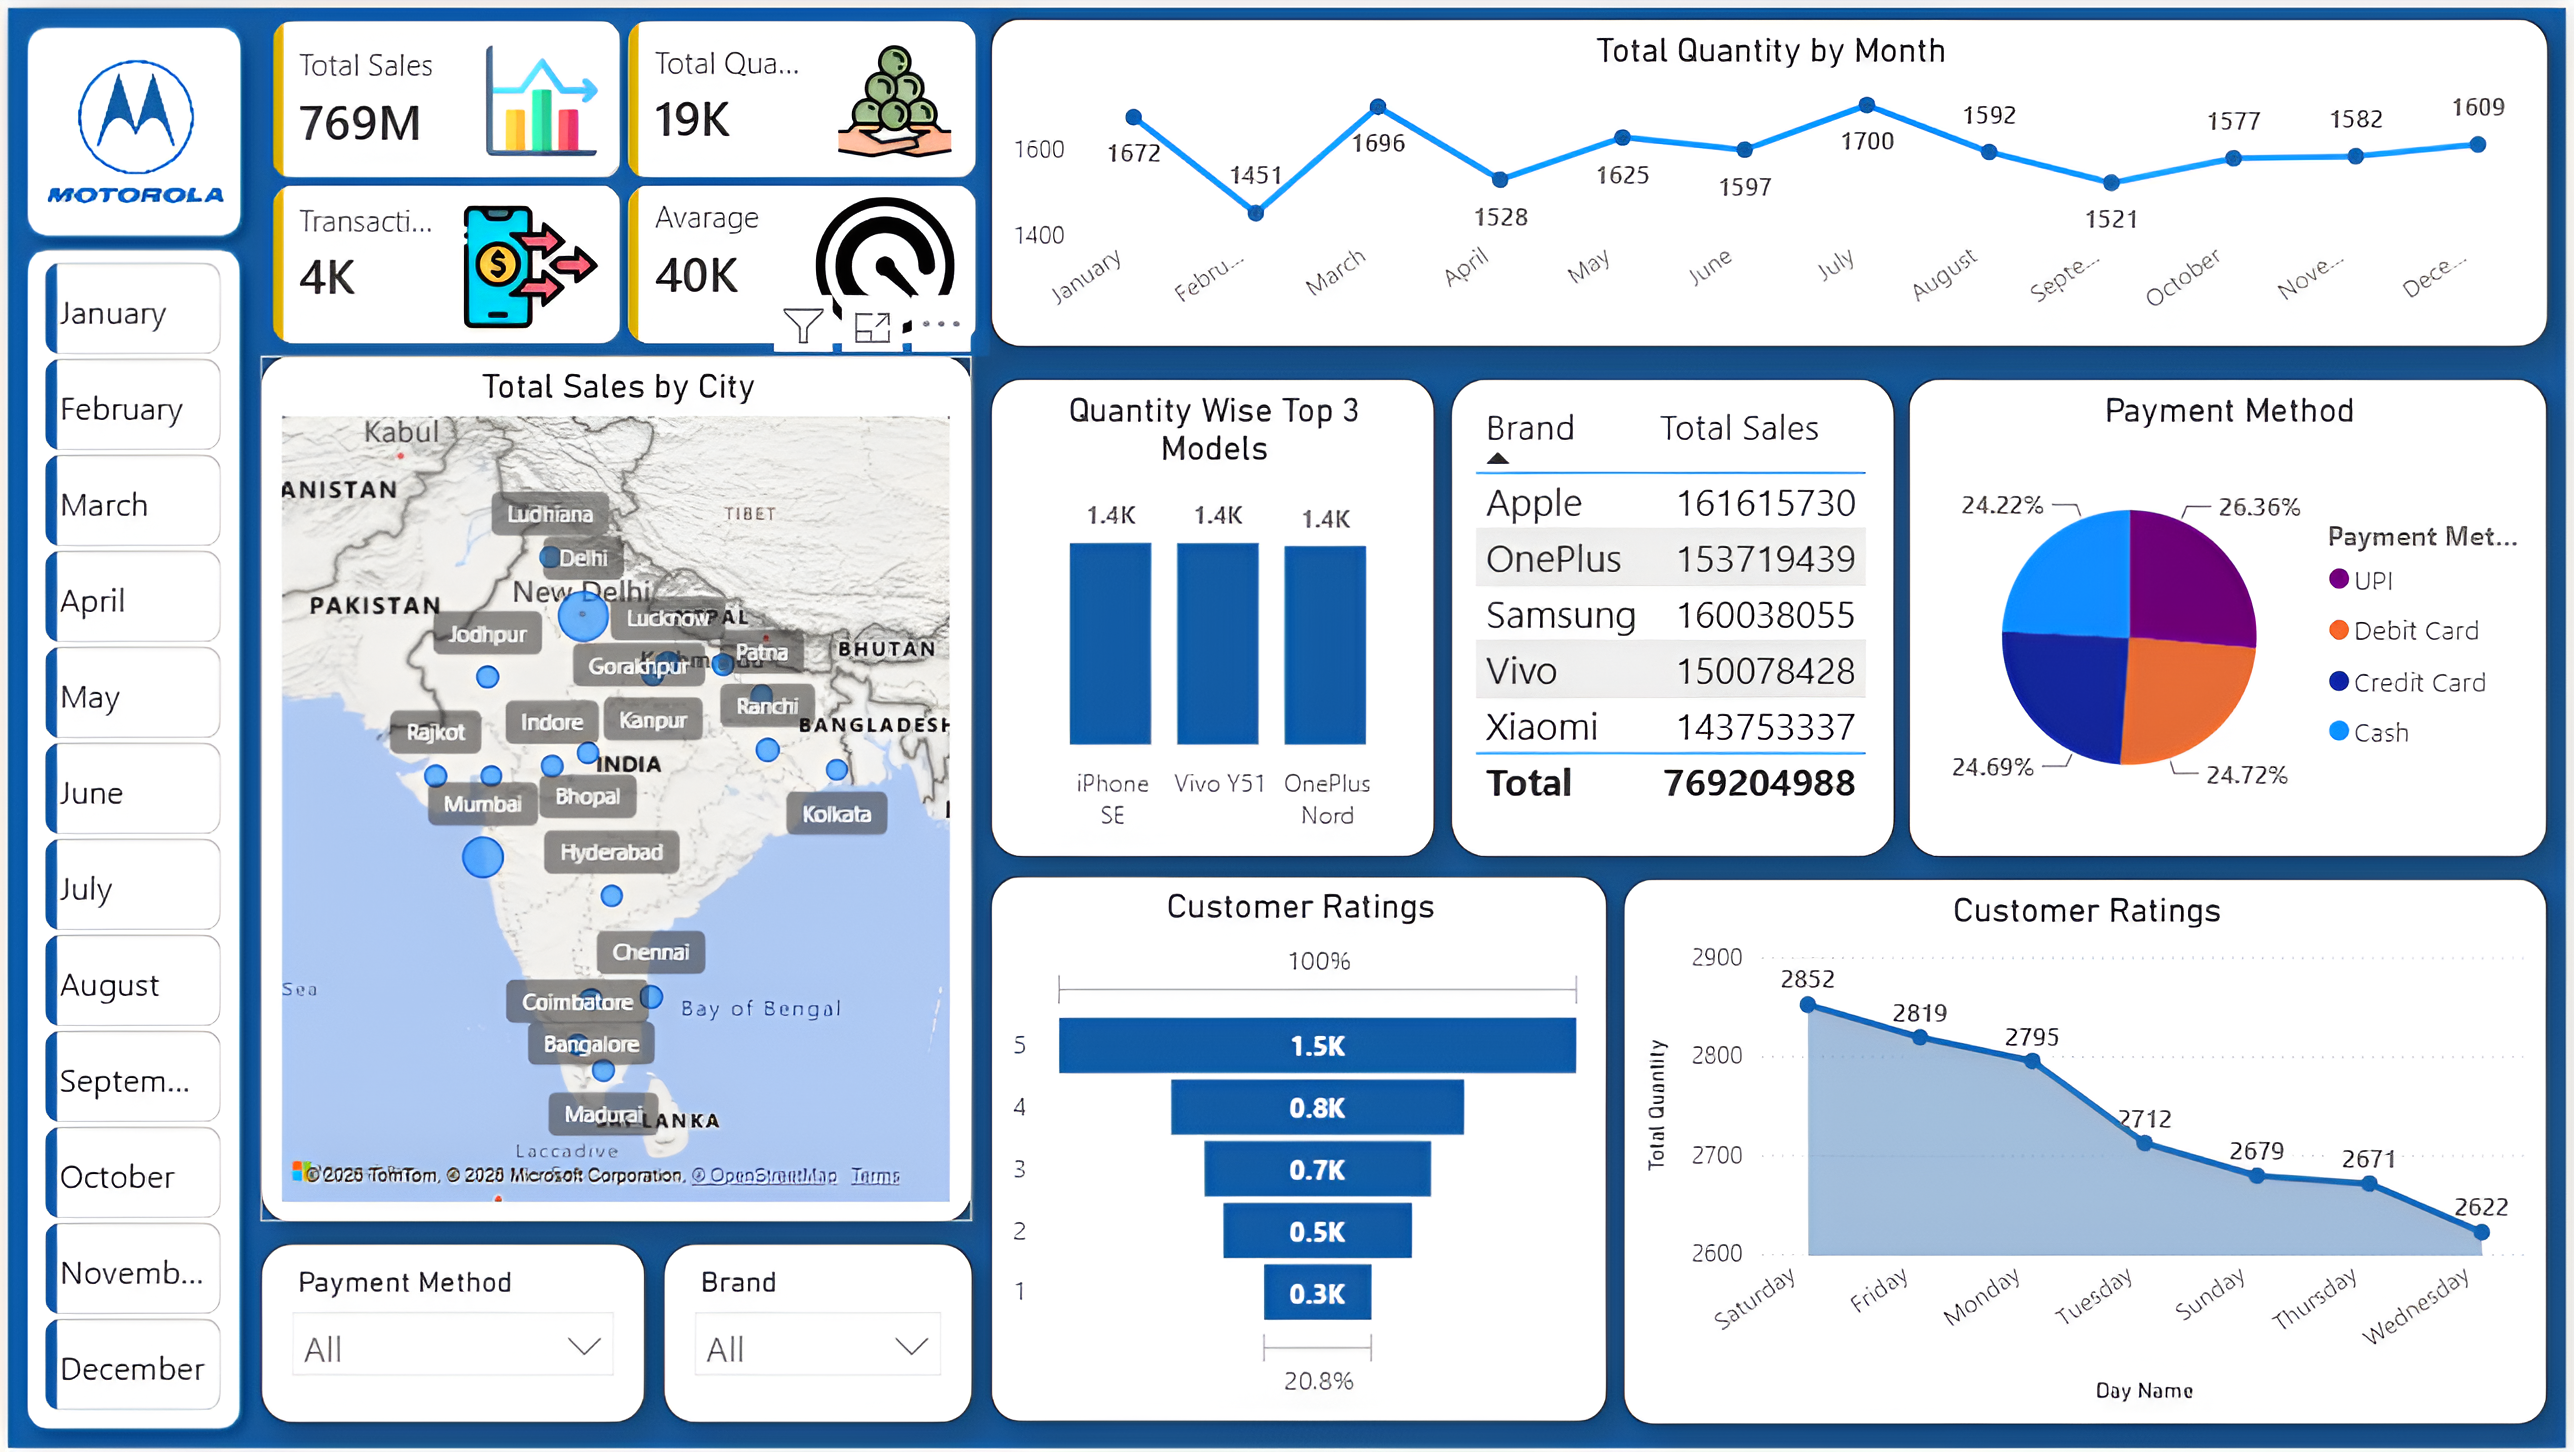

This screenshot's page, from the dashboard's own definition file:
{"tool":"powerbi","page":{"name":"Page 1","canvas":[1280,720],"ordinal":0},"visuals":[{"type":"group","id":"g1","title":"Group 1","box":[0,0,126.2,116.2],"z":0},{"type":"shape","box":[0,0,126.2,123.8],"z":0,"group":"g1"},{"type":"group","id":"g2","title":"Group 1","box":[0,111.2,125.9,608.9],"z":0,"group":"g3"},{"type":"shape","box":[0,111.2,125.9,608.9],"z":0,"group":"g2"},{"type":"image","box":[13.4,24.3,99.4,75.1],"z":1000,"group":"g1"},{"type":"group","id":"g3","title":"Group 2","box":[0,111.2,126.2,608.8],"z":1000},{"type":"advancedSlicerVisual","fields":{"Values":["Dashboard_Data.Date.Variation.Date Hierarchy.Month"]},"box":[14.1,122.9,98.7,585.6],"z":1000,"group":"g3"},{"type":"cardVisual","fields":{"Data":["Dashboard_Data.Total Sales","Dashboard_Data.Total Quantity","Dashboard_Data.Transactions","Dashboard_Data.Avarage"]},"box":[126.7,0,365,174.2],"z":2000},{"type":"map","fields":{"Category":["Dashboard_Data.City"],"Size":["Dashboard_Data.Total Sales"]},"box":[126.2,173.8,356.2,433.8],"z":3000},{"type":"lineChart","fields":{"Y":["Dashboard_Data.Total Quantity"],"Category":["Dashboard_Data.Date.Variation.Date Hierarchy.Month"]},"box":[491.8,4.5,779.1,164.5],"z":4000},{"type":"clusteredColumnChart","title":"Quantity Wise Top 3 Models","fields":{"Category":["Dashboard_Data.Mobile Model"],"Y":["Dashboard_Data.Total Quantity"]},"box":[491.3,185.2,222.3,240.1],"z":5000},{"type":"tableEx","fields":{"Values":["Dashboard_Data.Brand","Dashboard_Data.Total Sales"]},"box":[720.8,185,222.5,240],"z":6000},{"type":"pieChart","title":"Payment Method","fields":{"Category":["Dashboard_Data.Payment Method"],"Y":["Dashboard_Data.Transactions"]},"box":[950,185.5,320,240],"z":7000},{"type":"slicer","fields":{"Values":["Dashboard_Data.Payment Method"]},"box":[126.2,617.5,192.5,90],"z":7001},{"type":"slicer","fields":{"Values":["Dashboard_Data.Brand"]},"box":[327.5,617.5,155,90],"z":7002},{"type":"funnel","title":" Customer Ratings","fields":{"Category":["Dashboard_Data.Customer Ratings"],"Y":["CountNonNull(Dashboard_Data.Customer Ratings)"]},"box":[491.2,433.8,308.8,273.8],"z":7003},{"type":"stackedAreaChart","title":"Customer Ratings","fields":{"Category":["Dashboard_Data.Day"],"Y":["Dashboard_Data.Total Quantity"]},"box":[807.3,435.5,462.7,273.6],"z":7004}]}

Visuals, with their boxes in screenshot pixels (x1, y1, x2, y2), scaled from the page's 1280x720 canvas onto the 2574x1452 screenshot:
"Group 1" group: BBox(0, 0, 254, 234)
shape: BBox(0, 0, 254, 250)
"Group 1" group: BBox(0, 224, 253, 1451)
shape: BBox(0, 224, 253, 1451)
image: BBox(27, 49, 227, 200)
"Group 2" group: BBox(0, 224, 254, 1451)
advancedSlicerVisual - Dashboard_Data.Date.Variation.Date Hierarchy.Month: BBox(28, 248, 227, 1429)
cardVisual - Dashboard_Data.Total Sales x Dashboard_Data.Total Quantity: BBox(255, 0, 989, 351)
map - Dashboard_Data.City x Dashboard_Data.Total Sales: BBox(254, 350, 970, 1225)
lineChart - Dashboard_Data.Total Quantity x Dashboard_Data.Date.Variation.Date Hierarchy.Month: BBox(989, 9, 2556, 341)
"Quantity Wise Top 3 Models" clusteredColumnChart: BBox(988, 373, 1435, 858)
tableEx - Dashboard_Data.Brand x Dashboard_Data.Total Sales: BBox(1449, 373, 1897, 857)
"Payment Method" pieChart: BBox(1910, 374, 2554, 858)
slicer - Dashboard_Data.Payment Method: BBox(254, 1245, 641, 1427)
slicer - Dashboard_Data.Brand: BBox(659, 1245, 970, 1427)
" Customer Ratings" funnel: BBox(988, 875, 1609, 1427)
"Customer Ratings" stackedAreaChart: BBox(1623, 878, 2554, 1430)
